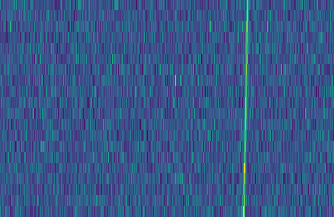signal: (240, 0, 253, 217)
